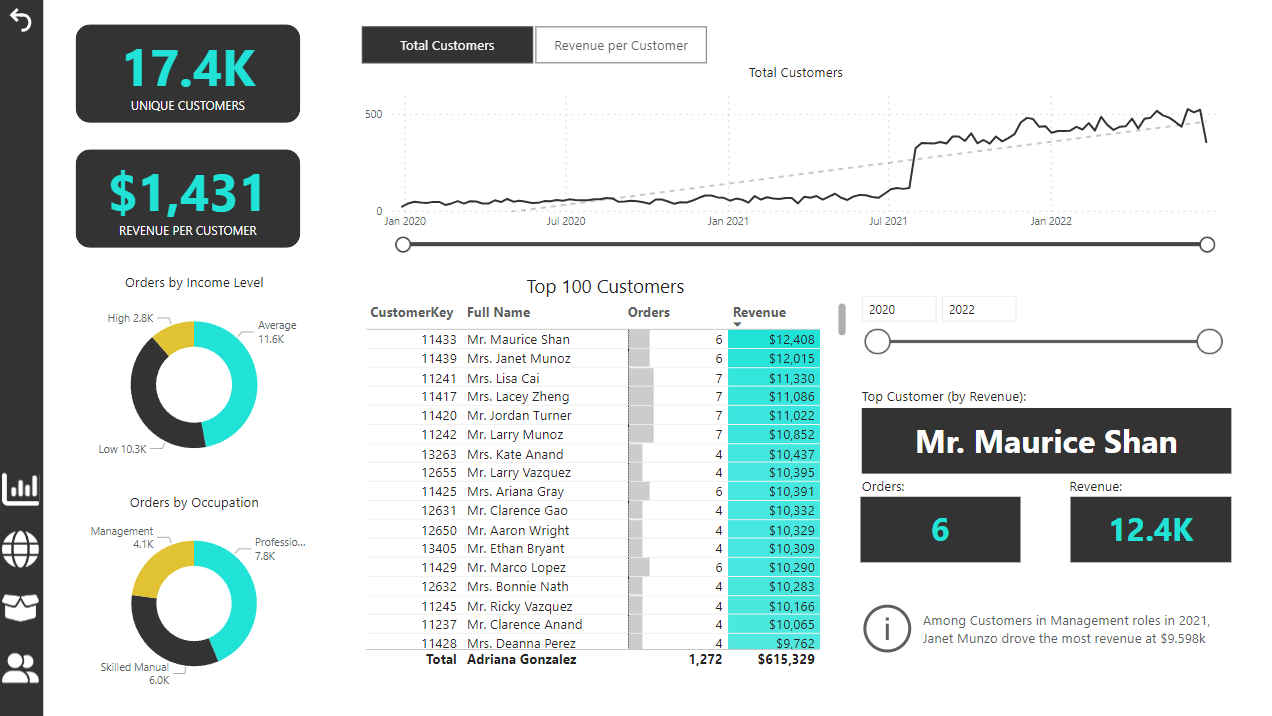

The dashboard page shown, as its layout file describes it:
{"tool":"powerbi","page":{"name":"Customer Detail","canvas":[1280,720],"ordinal":3},"visuals":[{"type":"shape","box":[0,0,45.2,720.2],"z":0},{"type":"actionButton","box":[0.3,469,45.2,45.2],"z":0,"group":"g1"},{"type":"shape","box":[77.8,26.3,225,98.8],"z":1000},{"type":"actionButton","box":[0.3,588.1,45.2,45],"z":1000,"group":"g1"},{"type":"card","fields":{"Values":["Measures Table.Total Customers"]},"box":[65.3,0.5,250,150],"z":2000},{"type":"actionButton","box":[0.3,647.5,45.2,45],"z":2000,"group":"g1"},{"type":"actionButton","box":[0.3,528.7,45.2,45],"z":3000,"group":"g1"},{"type":"shape","box":[77.8,151.3,225,98.8],"z":3000},{"type":"card","fields":{"Values":["Measures Table.Average Revenue per Customer"]},"box":[65.3,125.5,250,150],"z":4000},{"type":"lineChart","fields":{"Y":["Measures Table.Total Customers"],"Category":["Calendar Lookup.Date Hierarchy.Start of Year","Calendar Lookup.Date Hierarchy.Start of Month","Calendar Lookup.Date Hierarchy.Start of Week","Calendar Lookup.Date Hierarchy.Date"]},"box":[361.2,65.4,873.2,192],"z":5000},{"type":"donutChart","title":"Orders by Income Level","fields":{"Y":["Measures Table.Total Orders"],"Category":["Customer Lookup.Income Level"]},"box":[77.5,275,237.5,206.2],"z":6000},{"type":"donutChart","title":"Orders by Occupation","fields":{"Y":["Measures Table.Total Orders"],"Category":["Customer Lookup.Occupation"]},"box":[77.5,495,237.5,203.8],"z":7000},{"type":"tableEx","title":"Top 100 Customers","fields":{"Values":["Customer Lookup.CustomerKey","Customer Lookup.Full Name","Measures Table.Total Orders","Measures Table.Total Revenue"]},"box":[361.2,274.5,492.1,399.6],"z":8000},{"type":"card","fields":{"Values":["Customer Lookup.Full Name (Customer Detail)"]},"box":[863.3,409.9,369.8,65.4],"z":9000},{"type":"card","fields":{"Values":["Measures Table.Total Revenue (Customer Detail)"]},"box":[1071.9,499.1,160.7,65.4],"z":10000},{"type":"card","fields":{"Values":["Measures Table.Total Orders (Customer Detail)"]},"box":[862.9,499.1,160,65.4],"z":11000},{"type":"textbox","box":[859.1,384.3,184.9,51.2],"z":12000},{"type":"textbox","box":[1066.1,473.9,96.7,51.2],"z":13000},{"type":"textbox","box":[858.6,473.5,82.5,45.5],"z":14000},{"type":"slicer","fields":{"Values":["Calendar Lookup.Year"]},"box":[851.1,287.4,381.5,85.6],"z":15000},{"type":"actionButton","box":[858.4,600.4,376.6,61.1],"z":16000},{"type":"actionButton","box":[6.1,1.2,33,40.4],"z":17000},{"type":"group","id":"g1","title":"Nav Buttons","box":[0.3,469,45.2,223.5],"z":18000},{"type":"slicer","fields":{"Values":["Customer Metric Selection.Customer Metric Selection"]},"box":[337.1,21.3,395.4,51.2],"z":19000}]}

Visuals, with their boxes on the page's 1280x720 design canvas (x1, y1, x2, y2). These are canvas units, not pixel positions in the 1272x716 screenshot, which may show the page scaled, cropped or inside an application window:
shape: bbox(0, 0, 45, 720)
actionButton: bbox(0, 469, 46, 514)
shape: bbox(78, 26, 303, 125)
actionButton: bbox(0, 588, 46, 633)
card - Measures Table.Total Customers: bbox(65, 0, 315, 150)
actionButton: bbox(0, 648, 46, 692)
actionButton: bbox(0, 529, 46, 574)
shape: bbox(78, 151, 303, 250)
card - Measures Table.Average Revenue per Customer: bbox(65, 126, 315, 276)
lineChart - Measures Table.Total Customers x Calendar Lookup.Date Hierarchy.Start of Year: bbox(361, 65, 1234, 257)
"Orders by Income Level" donutChart: bbox(78, 275, 315, 481)
"Orders by Occupation" donutChart: bbox(78, 495, 315, 699)
"Top 100 Customers" tableEx: bbox(361, 274, 853, 674)
card - Customer Lookup.Full Name (Customer Detail): bbox(863, 410, 1233, 475)
card - Measures Table.Total Revenue (Customer Detail): bbox(1072, 499, 1233, 564)
card - Measures Table.Total Orders (Customer Detail): bbox(863, 499, 1023, 564)
textbox: bbox(859, 384, 1044, 436)
textbox: bbox(1066, 474, 1163, 525)
textbox: bbox(859, 474, 941, 519)
slicer - Calendar Lookup.Year: bbox(851, 287, 1233, 373)
actionButton: bbox(858, 600, 1235, 662)
actionButton: bbox(6, 1, 39, 42)
"Nav Buttons" group: bbox(0, 469, 46, 692)
slicer - Customer Metric Selection.Customer Metric Selection: bbox(337, 21, 732, 72)
